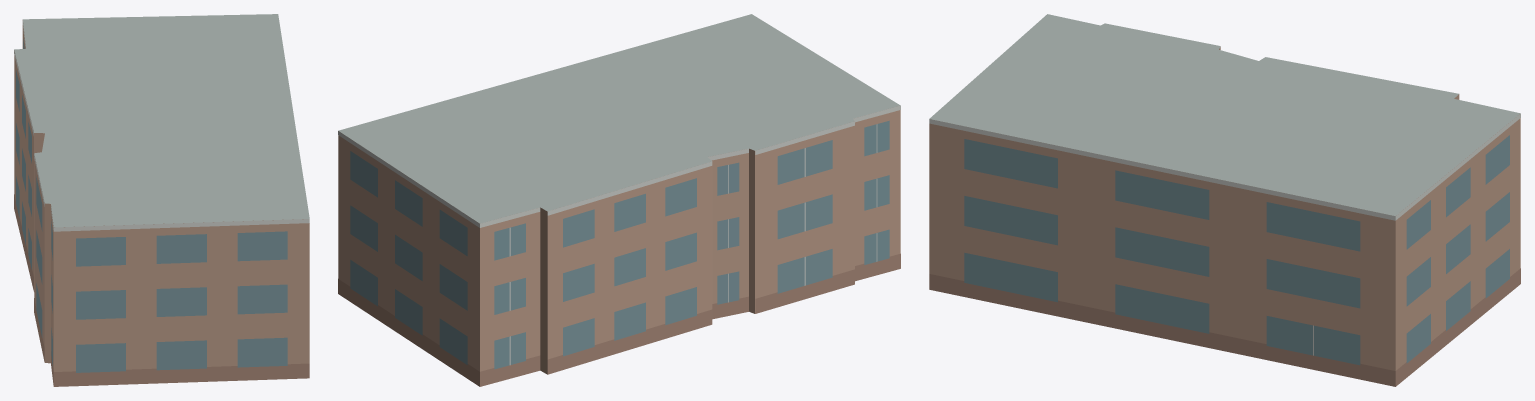
Rendered from survey-upis-32854323.glb.
3 views of the same model, side by side, from view 1: azimuth 30°, elevation 25°; view 2: azimuth 150°, elevation 25°; view 3: azimuth 270°, elevation 25° (orthographic). The views are drawn at different scales.
Parts seen in each view (by area): view 1: survey-upis-32854323.tmp; view 2: survey-upis-32854323.tmp; view 3: survey-upis-32854323.tmp.
Part boxes in pixels (x1,y1,x2,y2): survey-upis-32854323.tmp: (14, 14, 309, 386); survey-upis-32854323.tmp: (338, 14, 900, 386); survey-upis-32854323.tmp: (929, 14, 1520, 386).
Bounding box in the file's own units: 23.25 × 9.15 × 28.75.
